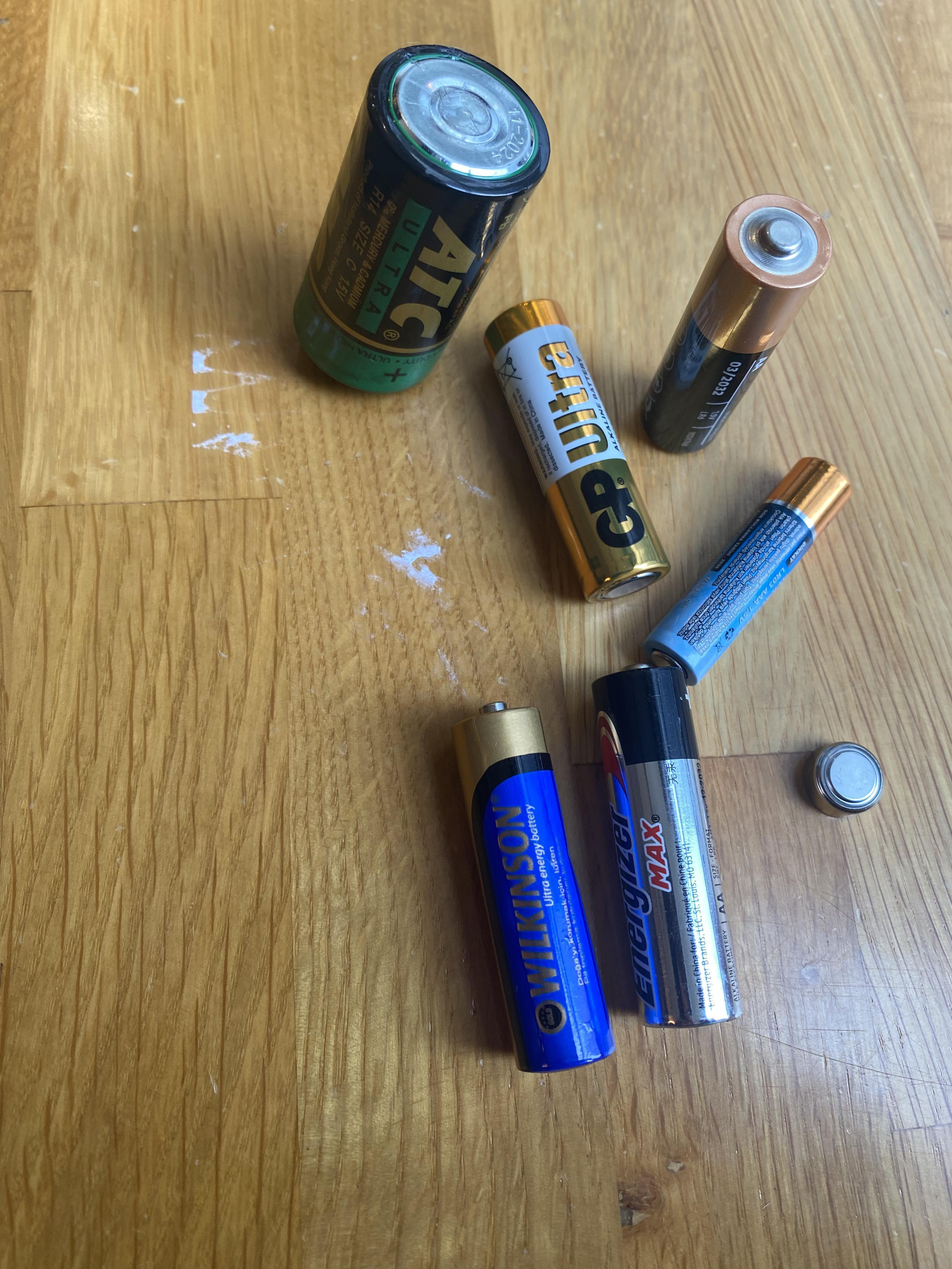AA: (447, 694, 619, 1077), (480, 293, 678, 614), (591, 656, 747, 1033), (634, 191, 836, 457)
AAA: (642, 450, 859, 695)
COIN: (801, 739, 887, 821)
